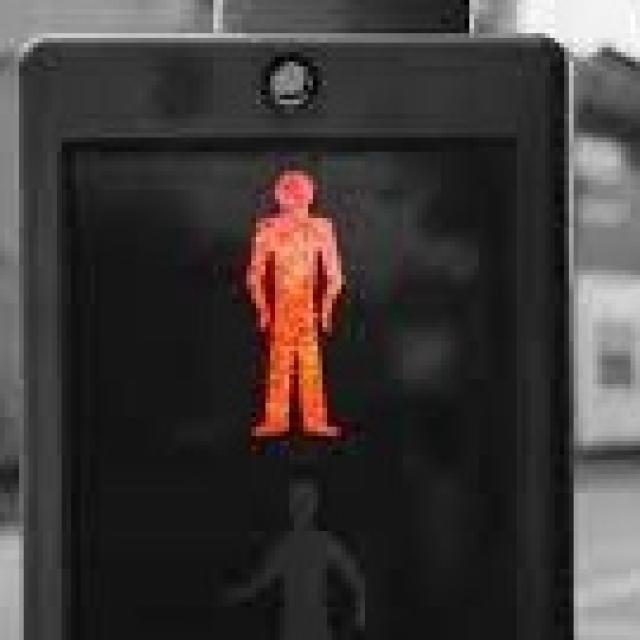red-crossing: (199, 142, 375, 446)
